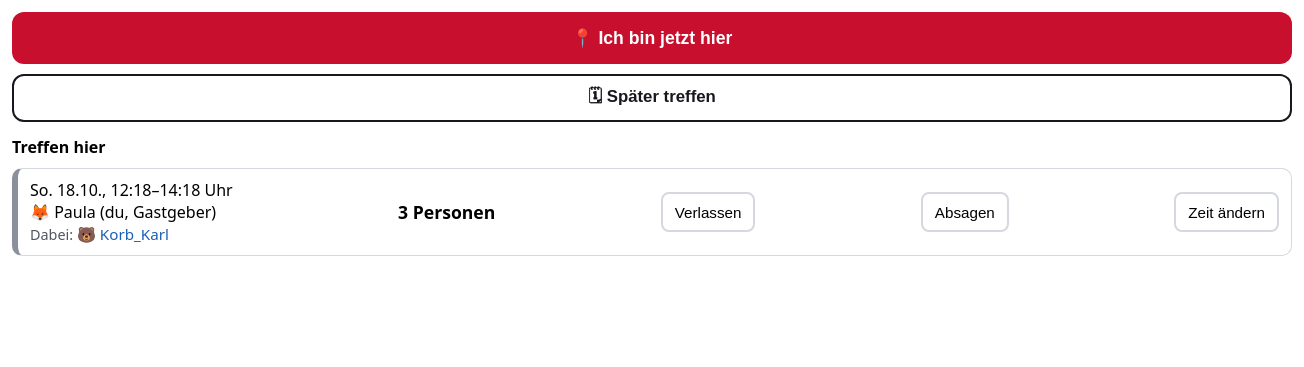
Test: PlaceMeetups › offers the Host of a later Meetup "Absagen", "Verlassen" and "Zeit ändern"
The image size is (1304, 367).
Check: the button "Absagen" is shown, box [921,192,1009,232]
Check: the button "Verlassen" is shown, box [661,192,755,232]
Click the button "Zeit ändern".
click(1227, 212)  # box [1174,192,1279,232]
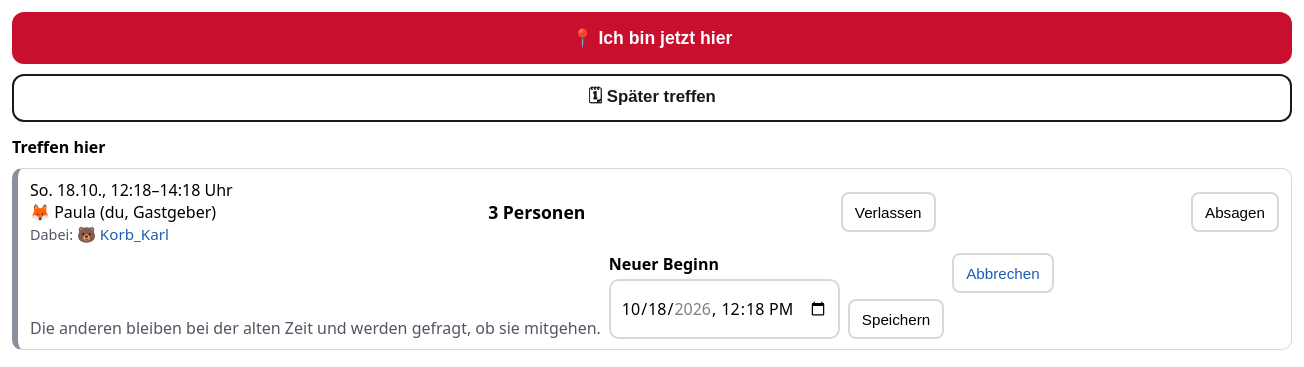
Check: the text "Die anderen bleiben bei der alten Zeit" is shown, box [30,317,601,339]
